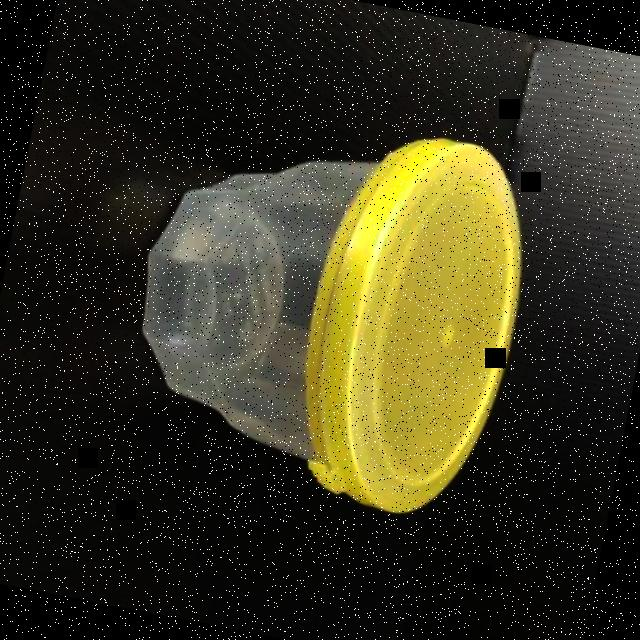plastic_box: (104, 82, 546, 525)
